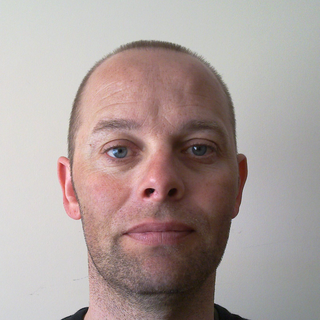eye: (95, 139, 140, 164), (178, 138, 222, 163)
